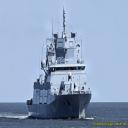Fragata: (27, 4, 93, 121)
